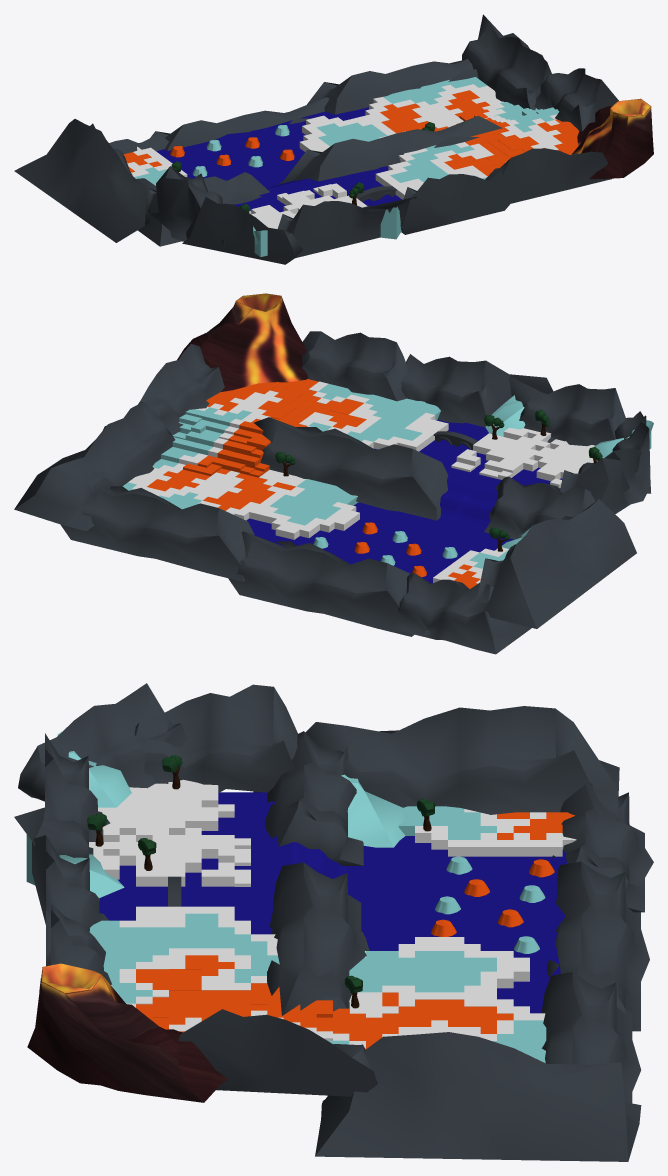
Rendered from Environment.7.FBX.
3 renders of one model, top to bottom at view 1: azimuth 30°, elevation 25°; view 2: azimuth 150°, elevation 25°; view 3: azimuth 270°, elevation 25°, orthographic. The views are drawn at different scales.
Parts seen in each view (by area): view 1: Neutral Ground, MountainR3, Water, MountainC, Lava Ground, MountainTC, Frozen Ground, MountainL2, Volcano, MountainTR, MountainCornerR, MountainTL (+8 smaller); view 2: Neutral Ground, MountainR3, MountainL004, MountainC, MountainL3, Water, MountainL2, Lava Ground, Frozen Ground, Volcano, MountainR004, MountainTR (+8 smaller); view 3: MountainL2, Neutral Ground, Water, MountainR3, Volcano, Frozen Ground, Lava Ground, MountainR1, MountainC, MountainL1, MountainL004, MountainR2 (+8 smaller).
Boxes of the visible parts, x1,y1,x2,y2 form: Neutral Ground: (127,84,562,228); MountainR3: (14,119,156,242); Water: (156,107,401,212); MountainC: (277,116,502,184); Lava Ground: (123,90,579,176); MountainTC: (401,171,513,234); Frozen Ground: (134,77,559,185); MountainL2: (450,14,551,110); Volcano: (572,98,653,179); MountainTR: (277,196,416,258); MountainCornerR: (182,197,302,264); MountainTL: (485,148,611,203); Neutral Ground: (128,381,597,583); MountainR3: (464,499,636,628); MountainL004: (228,531,414,636); MountainC: (254,417,448,520); MountainL3: (60,486,254,581); Water: (246,419,562,583); MountainL2: (14,403,175,530); Lava Ground: (147,379,480,589); Frozen Ground: (122,384,508,568); Volcano: (177,293,308,391); MountainR004: (389,573,531,654); MountainTR: (509,374,626,446); MountainL2: (315,1032,641,1161); Neutral Ground: (89,779,576,1047); Water: (99,792,567,1013); MountainR3: (305,706,619,821); Volcano: (27,963,227,1102); Frozen Ground: (89,806,546,1062); Lava Ground: (136,812,574,1048); MountainR1: (134,684,297,792); MountainC: (267,862,369,1015); MountainL1: (178,1009,377,1096); MountainL004: (547,861,649,1031); MountainR2: (253,731,363,865).
Bounding box in the file's own units: 836 × 181 × 585.
